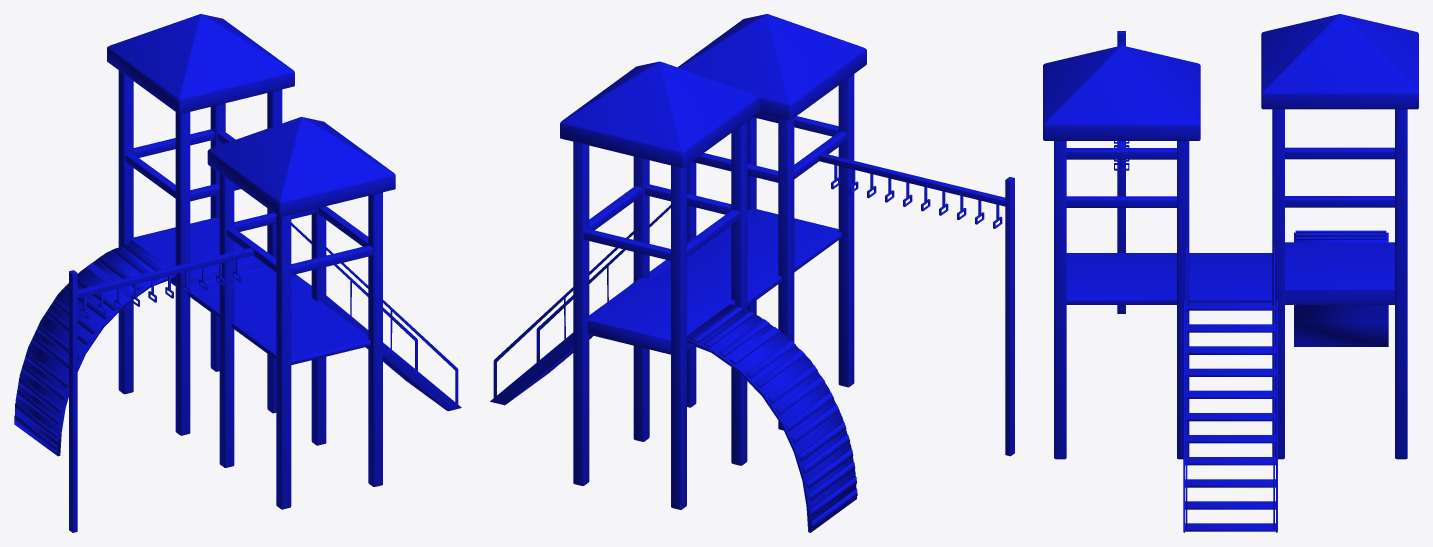
The model's file is climbhouse.glb.
3 renders of one model, left to right at view 1: azimuth 30°, elevation 25°; view 2: azimuth 150°, elevation 25°; view 3: azimuth 270°, elevation 25°, orthographic. The views are drawn at different scales.
Parts seen in each view (by area): view 1: Climbhouse; view 2: Climbhouse; view 3: Climbhouse.
Part boxes in pixels (<box>): Climbhouse: <box>14,14,461,532</box>; Climbhouse: <box>490,14,1014,532</box>; Climbhouse: <box>1043,14,1418,532</box>.
Size of the model in its own units: 0.6188 by 0.545 by 0.4429.
